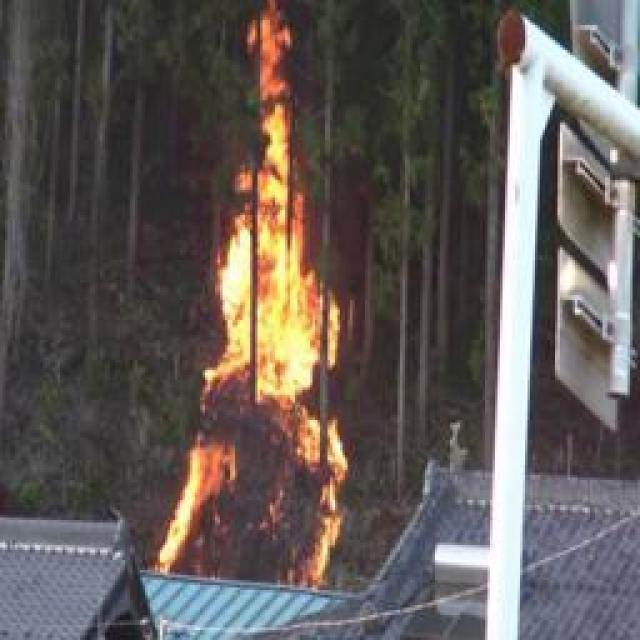Fire: (171, 29, 349, 584)
